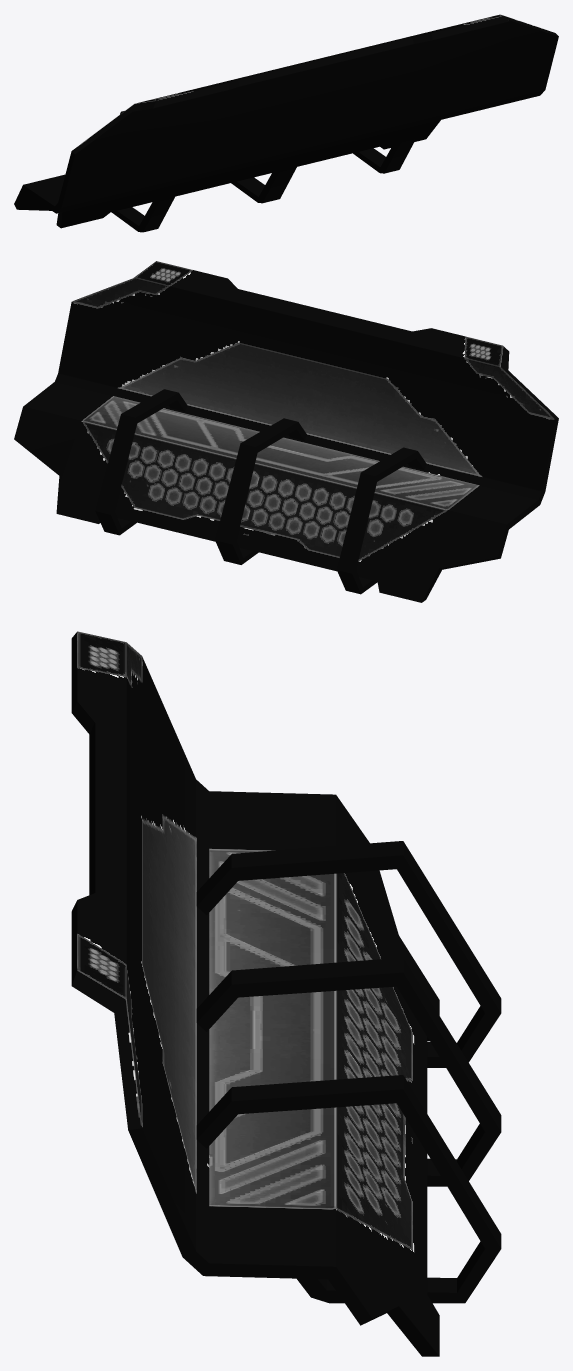
The model's file is propCityBench.glb.
3 renders of one model, top to bottom at view 1: azimuth 30°, elevation 25°; view 2: azimuth 150°, elevation 25°; view 3: azimuth 270°, elevation 25°, orthographic. The views are drawn at different scales.
Visible parts, largest first — view 1: propCityBench; view 2: propCityBench; view 3: propCityBench.
Boxes of the visible parts, x1,y1,x2,y2 form: propCityBench: [14, 14, 558, 232]; propCityBench: [14, 261, 558, 602]; propCityBench: [71, 631, 501, 1356].
Bounding box in the file's own units: 3.57 × 1.33 × 1.37.
Materials: 1 (1 with a texture image).
